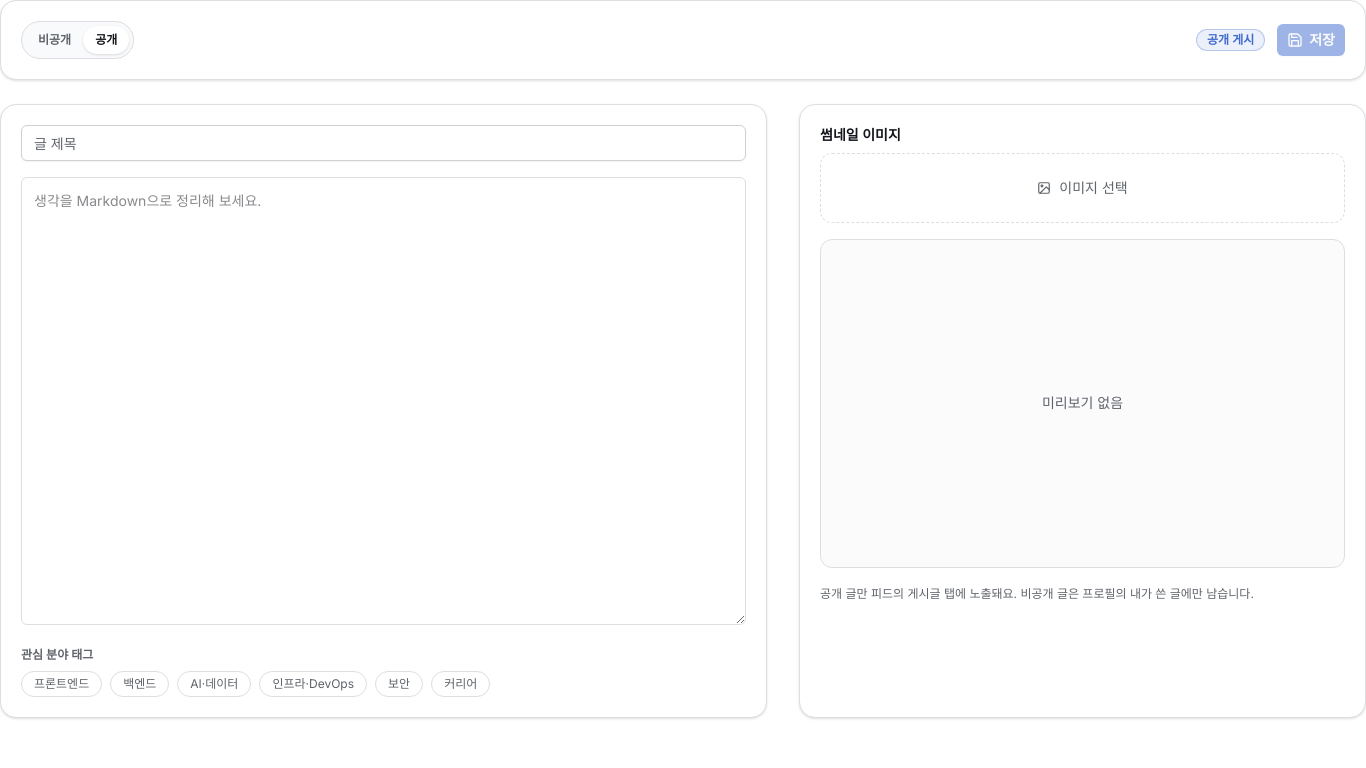
Test: WriteEditor 신규 작성 › 태그를 고르고 다시 누르면 해제된다
The image size is (1366, 768).
What coordinates should you click on to do the following:
click the button "프론트엔드"
I would click on:
 (62, 684)
Its box is x1=21 y1=671 x2=102 y2=697.
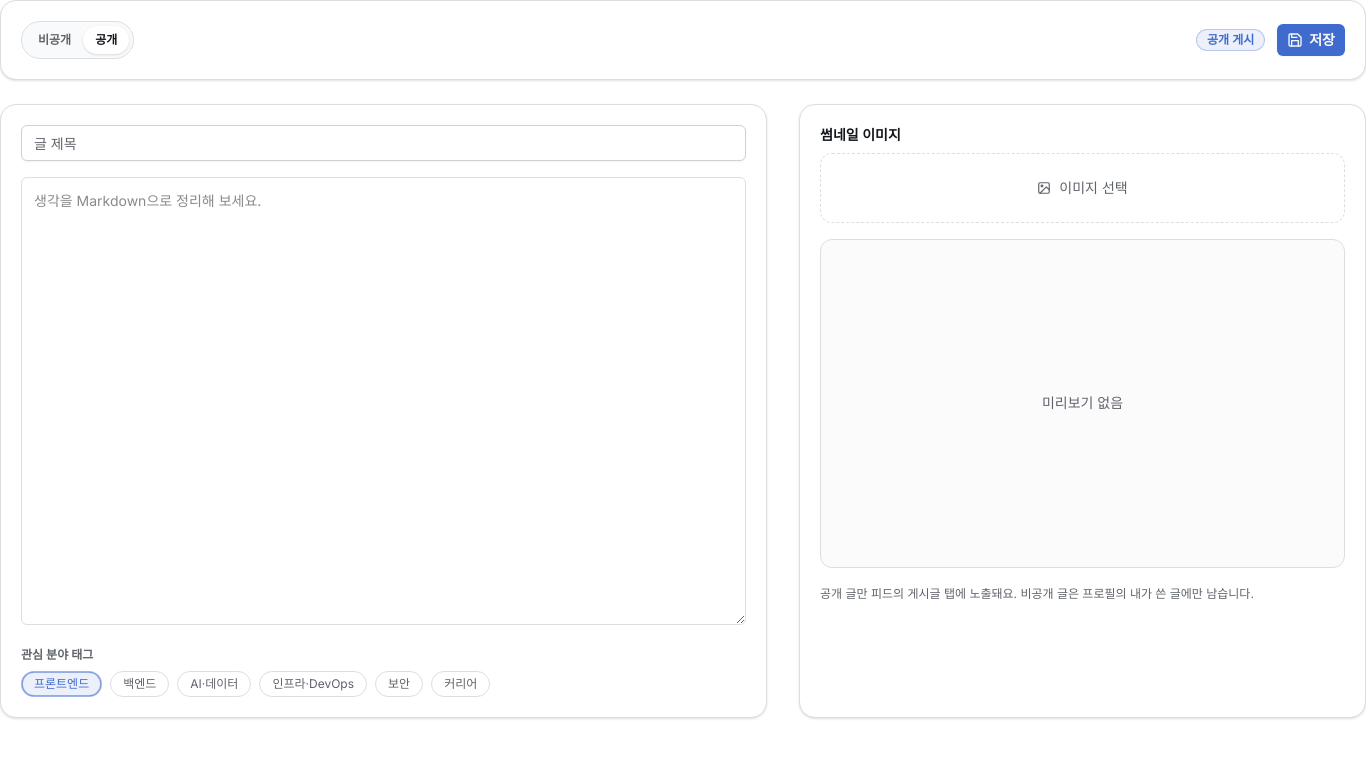
Now the button "저장" is enabled, box x1=1277 y1=24 x2=1345 y2=56
What coordinates should you click on to do the following:
click the button "프론트엔드"
I would click on:
 (62, 684)
Its box is x1=21 y1=671 x2=102 y2=697.
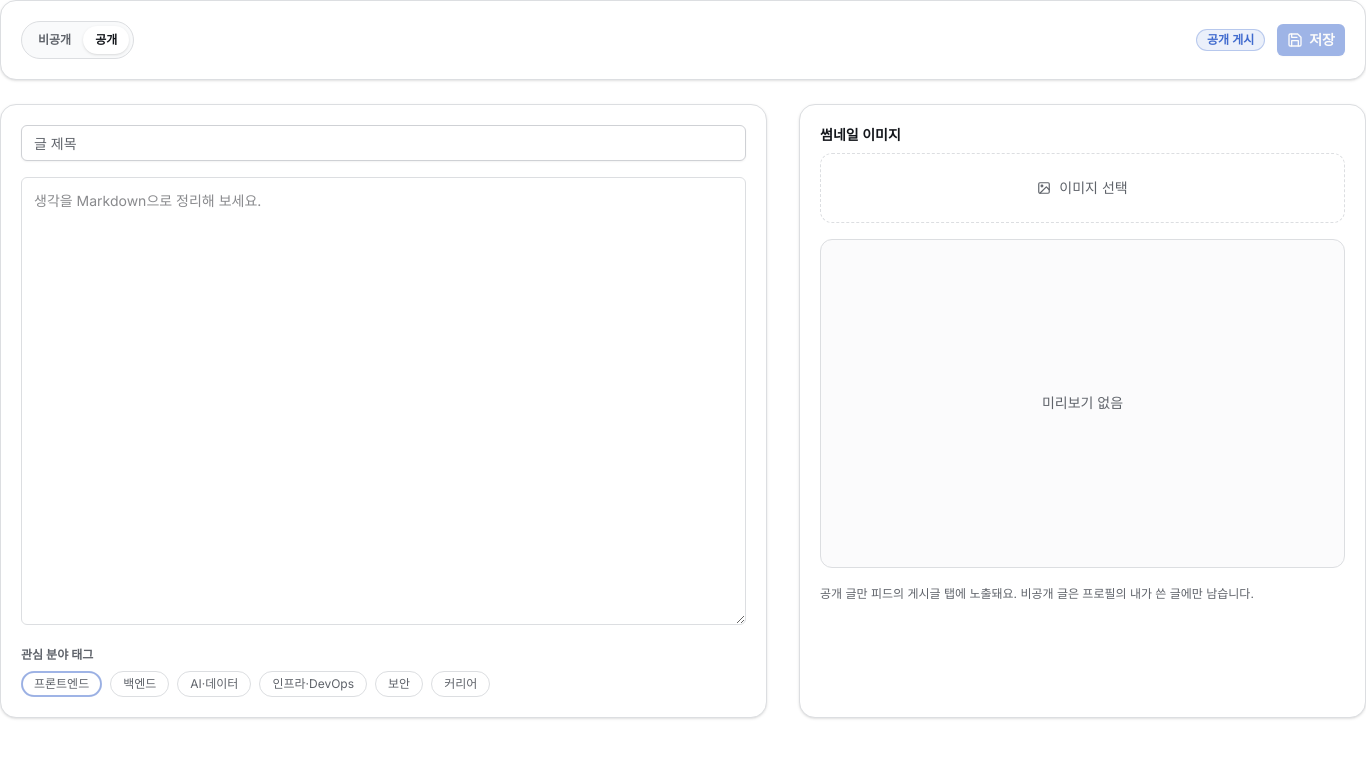
Now the button "저장" is disabled, box x1=1277 y1=24 x2=1345 y2=56
